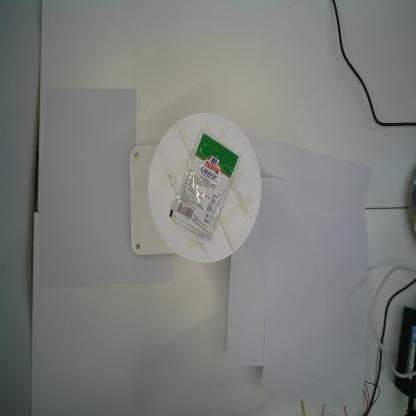Seasoner: (169, 128, 242, 241)
